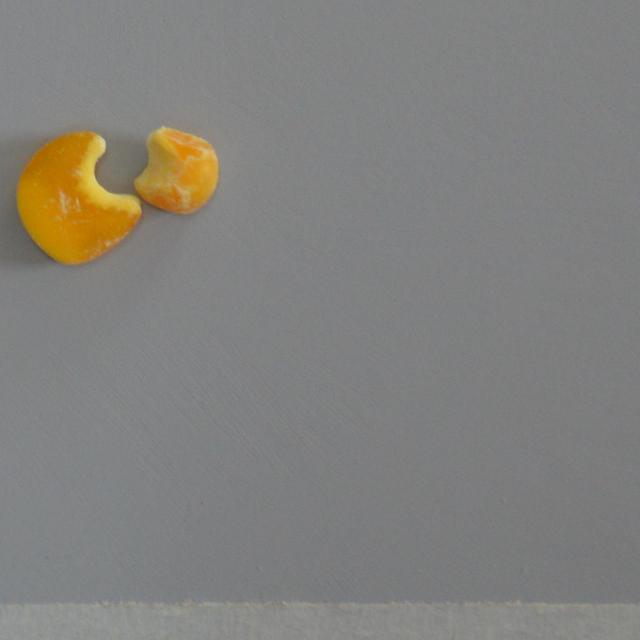dañado: (6, 127, 146, 270), (128, 122, 226, 222)
